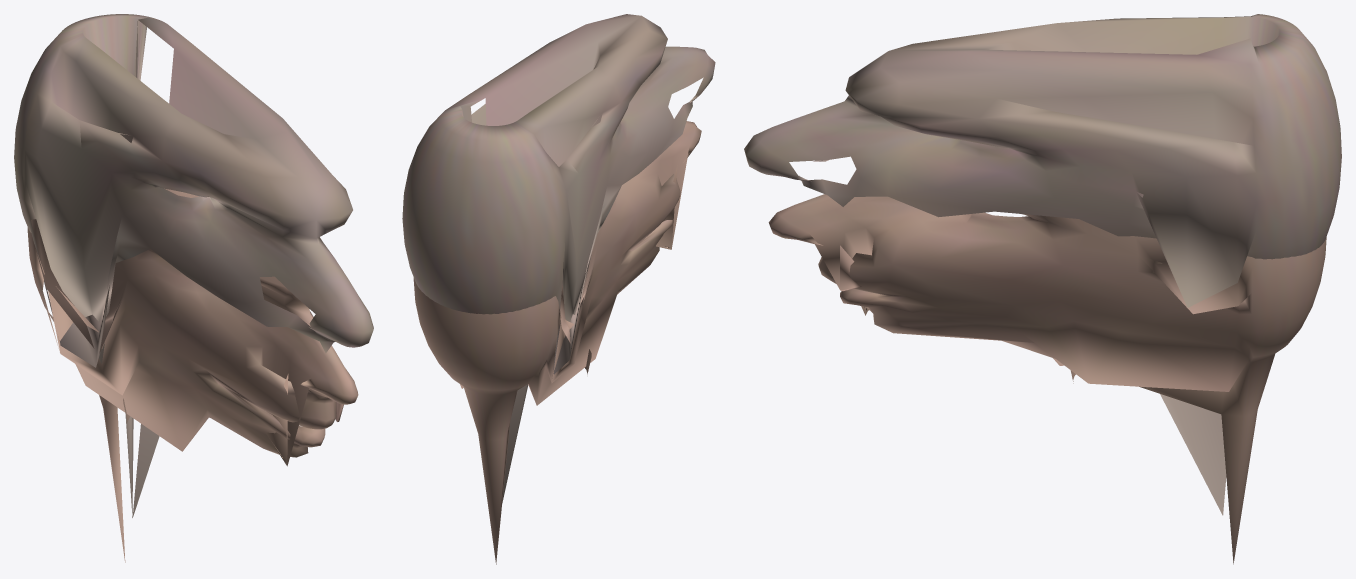
3 renders of one model, left to right at view 1: azimuth 30°, elevation 25°; view 2: azimuth 150°, elevation 25°; view 3: azimuth 270°, elevation 25°, orthographic. The views are drawn at different scales.
Visible parts, largest first — view 1: world; view 2: world; view 3: world.
Part boxes in pixels (left/top/right/bottom): world: left=14, top=14, right=373, bottom=562; world: left=402, top=14, right=715, bottom=564; world: left=744, top=14, right=1341, bottom=564.
Size of the model in its own units: 0.1169 by 0.3319 by 0.335.
